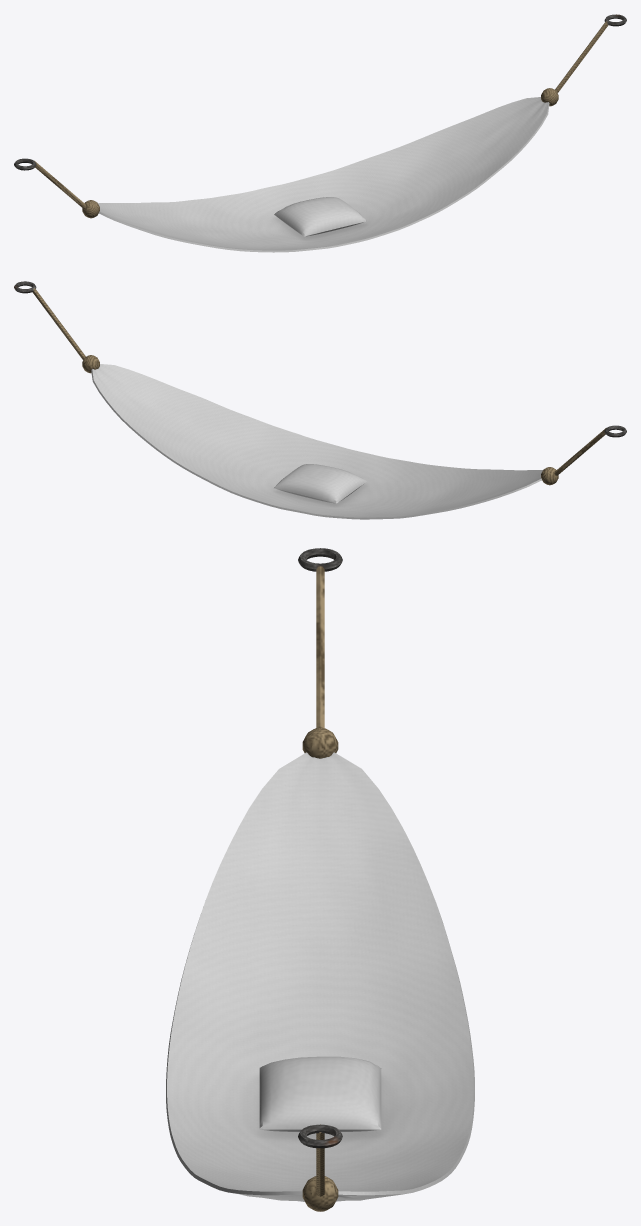
Rendered from bed_gathered.glb.
3 renders of one model, top to bottom at view 1: azimuth 30°, elevation 25°; view 2: azimuth 150°, elevation 25°; view 3: azimuth 270°, elevation 25°, orthographic. The views are drawn at different scales.
Visible parts, largest first — view 1: bed_gathered; view 2: bed_gathered; view 3: bed_gathered.
Part boxes in pixels (bbox=[...]): bed_gathered: bbox=[14, 14, 626, 252]; bed_gathered: bbox=[14, 281, 626, 519]; bed_gathered: bbox=[166, 548, 474, 1211].
Bounding box in the file's own units: 2.31 × 0.4921 × 0.5079.
Materials: 2 (2 with a texture image).
